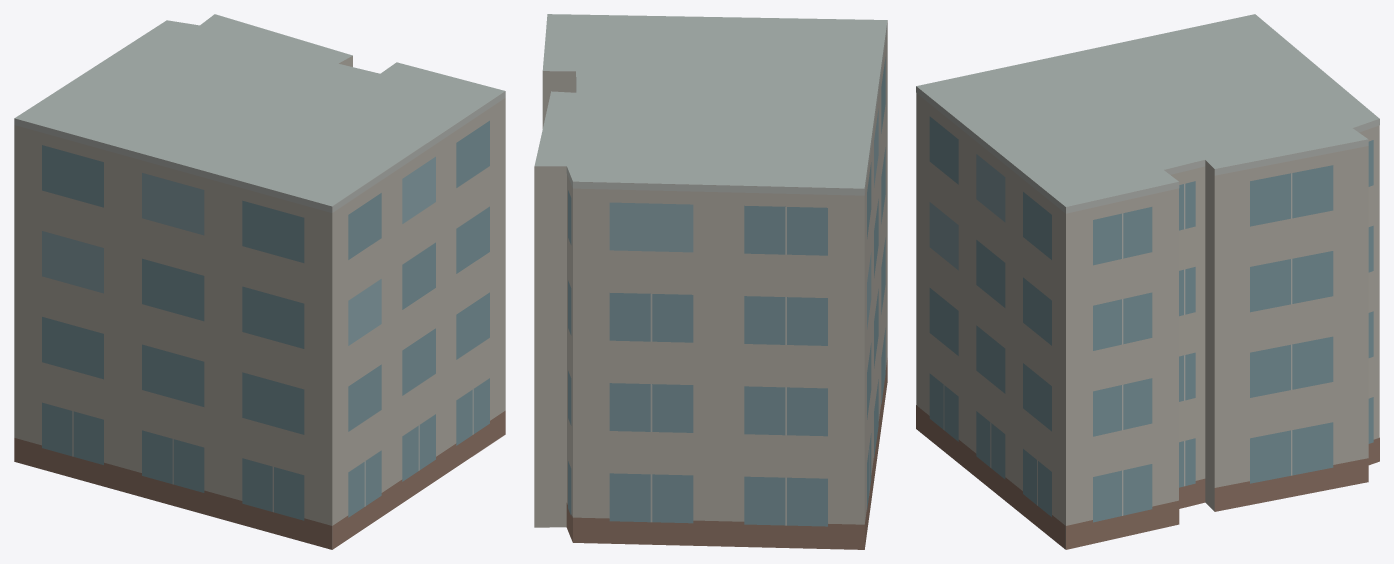
Rendered from survey-upis-32740890.glb.
3 views of the same model, side by side, from view 1: azimuth 30°, elevation 25°; view 2: azimuth 150°, elevation 25°; view 3: azimuth 270°, elevation 25° (orthographic). The views are drawn at different scales.
Parts seen in each view (by area): view 1: survey-upis-32740890.tmp; view 2: survey-upis-32740890.tmp; view 3: survey-upis-32740890.tmp.
Boxes of the visible parts, <box> form: survey-upis-32740890.tmp: <box>14,14,505,549</box>; survey-upis-32740890.tmp: <box>534,14,887,549</box>; survey-upis-32740890.tmp: <box>916,14,1379,549</box>.
Bounding box in the file's own units: 15.23 × 12.6 × 15.45.
